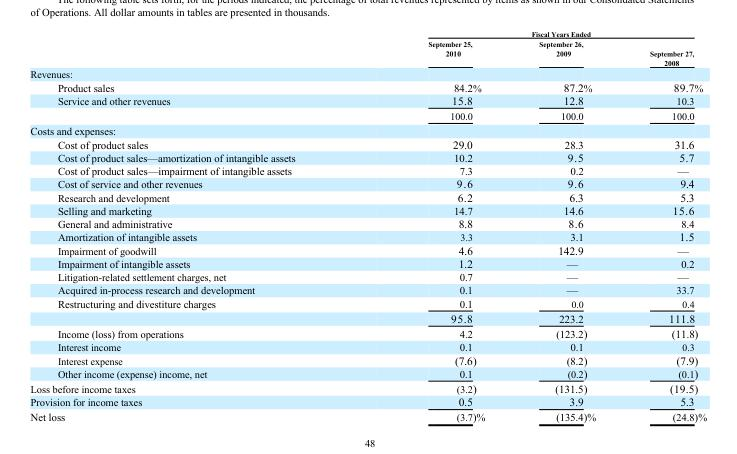table: (29, 29, 706, 422)
table column: (29, 29, 361, 422), (361, 29, 511, 422), (511, 29, 622, 422), (622, 29, 706, 422)
table column header: (29, 29, 706, 67)
table projected row header: (29, 123, 706, 137), (29, 67, 706, 80)
table row: (29, 38, 706, 67), (29, 93, 706, 108), (29, 108, 706, 123), (29, 310, 706, 325), (29, 325, 706, 340), (29, 394, 706, 409), (29, 123, 706, 137), (29, 176, 706, 190), (29, 229, 706, 243), (29, 269, 706, 283), (29, 296, 706, 310), (29, 366, 706, 380), (29, 380, 706, 394), (29, 67, 706, 80), (29, 80, 706, 93), (29, 137, 706, 150), (29, 150, 706, 163), (29, 163, 706, 176), (29, 190, 706, 203), (29, 203, 706, 216), (29, 216, 706, 229), (29, 243, 706, 256), (29, 256, 706, 269), (29, 283, 706, 296), (29, 340, 706, 353), (29, 353, 706, 366), (29, 409, 706, 422), (29, 29, 706, 38)
table spanning cell: (361, 29, 706, 38)
